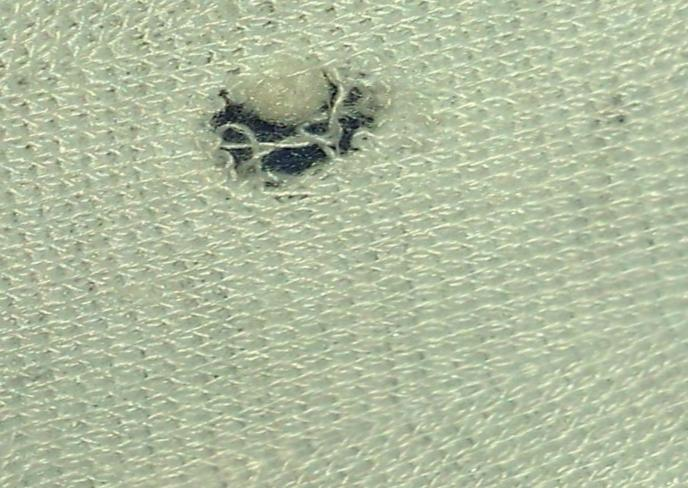hole: (208, 50, 362, 129)
